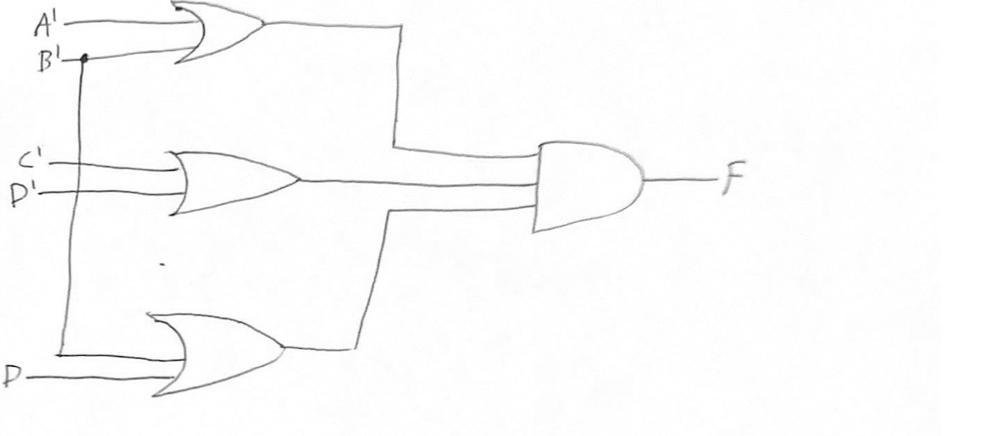AND: (527, 123, 656, 244)
OR: (129, 289, 295, 406), (149, 135, 304, 227), (143, 0, 272, 73)
